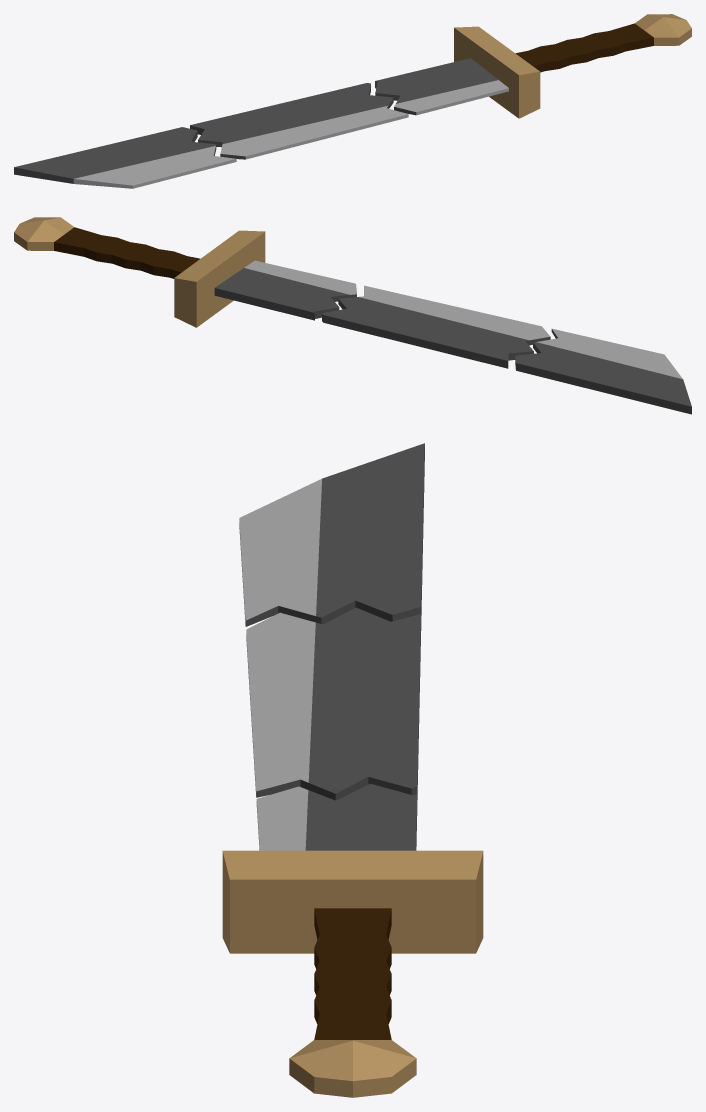
Rendered from faca.fbx.
The picture shows the model from 3 angles, top to bottom: view 1: azimuth 30°, elevation 25°; view 2: azimuth 150°, elevation 25°; view 3: azimuth 270°, elevation 25°; orthographic projection. The views are drawn at different scales.
Parts seen in each view (by area): view 1: Cube, Cube.002, Cube.001; view 2: Cube, Cube.002, Cube.001; view 3: Cube, Cube.002, Cube.001.
Boxes of the visible parts, x1,y1,x2,y2 form: Cube: (375,14,691,118); Cube.002: (190,83,408,159); Cube.001: (14,127,236,188); Cube: (14,217,356,327); Cube.002: (322,285,550,368); Cube.001: (515,328,691,414); Cube: (222,783,483,1097); Cube.002: (246,607,421,800); Cube.001: (239,443,424,626).
Bounding box in the file's own units: 1670 × 106 × 288.
